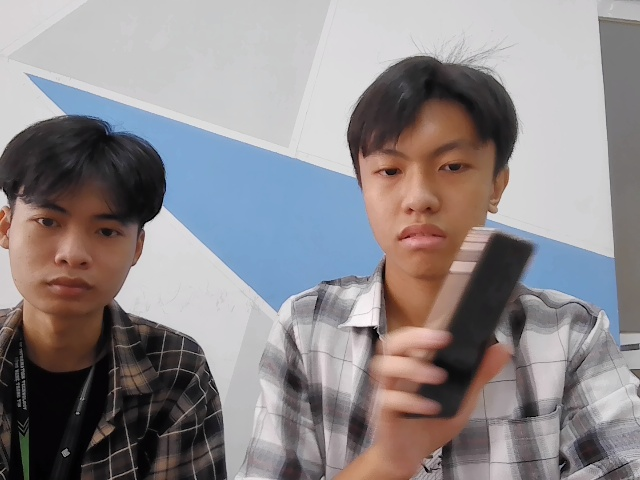human: (344, 68, 511, 277), (3, 108, 165, 314)
phone: (405, 222, 529, 418)
